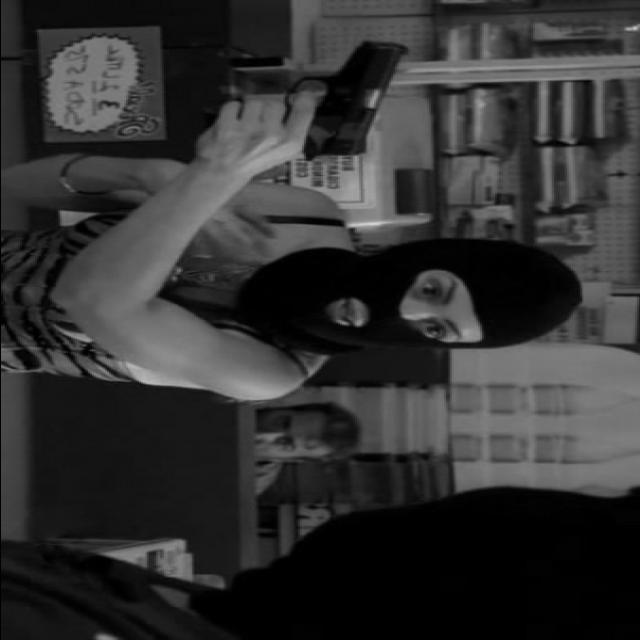weapons: (212, 33, 416, 169)
